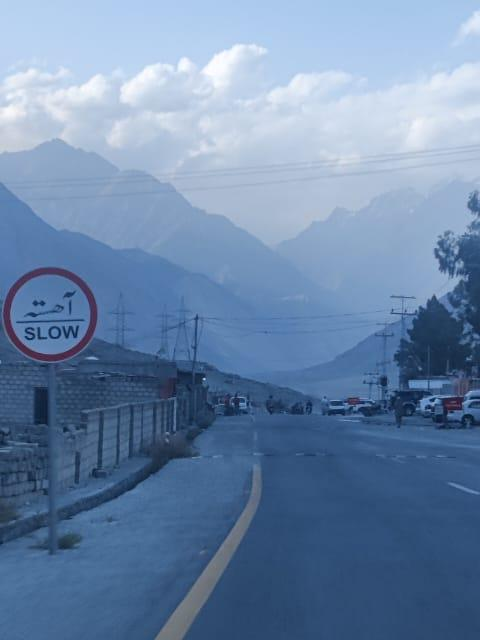sharp_turn: (235, 364, 480, 640)
